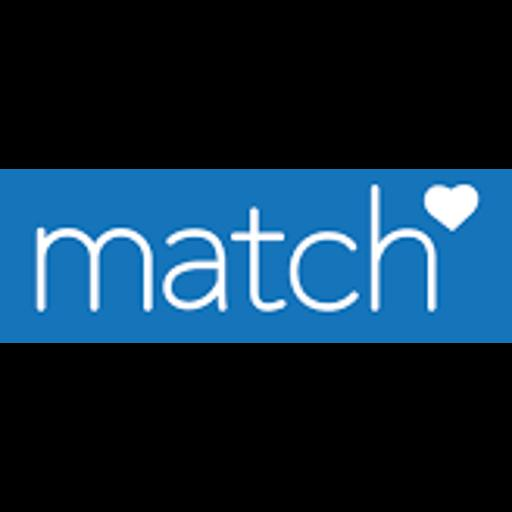Match: (0, 169, 512, 343)
